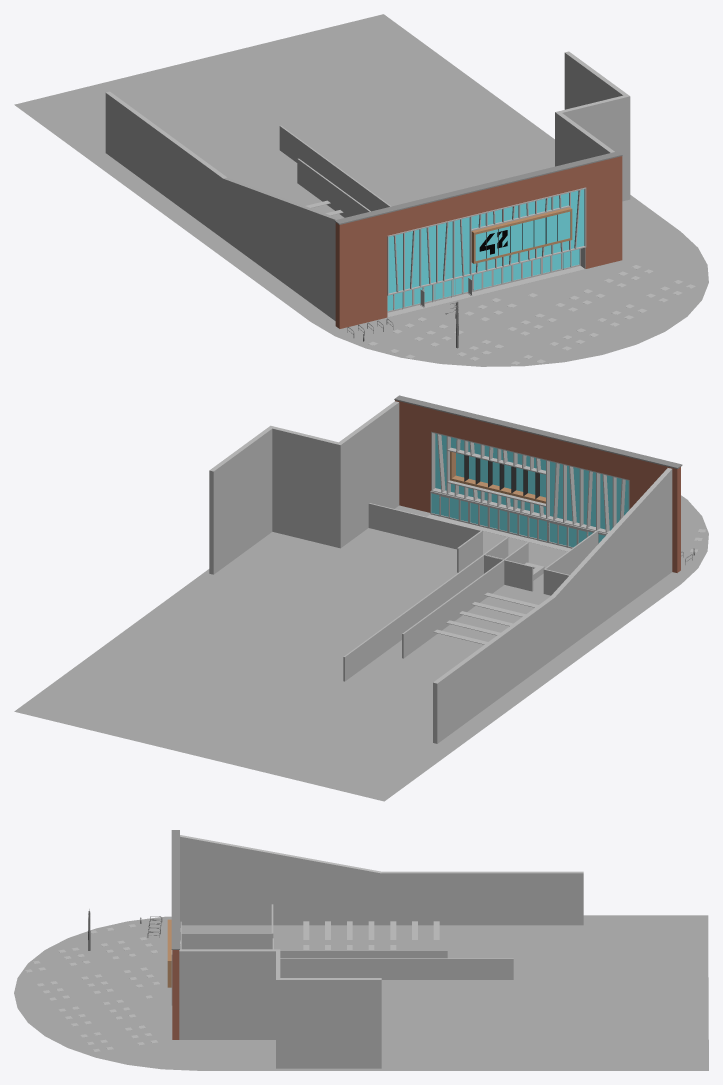
File: 42WOBTest.glb
3 views of the same model, one above another, from view 1: azimuth 30°, elevation 25°; view 2: azimuth 150°, elevation 25°; view 3: azimuth 270°, elevation 25° (orthographic). The views are drawn at different scales.
Parts seen in each view (by area): view 1: Campus2; view 2: Campus2; view 3: Campus2.
Part boxes in pixels (box(x1,y1,x2,y2)): Campus2: box(14, 14, 708, 366); Campus2: box(14, 395, 708, 801); Campus2: box(14, 830, 708, 1070).
Bounding box in the file's own units: 20.02 × 5.48 × 37.84.
